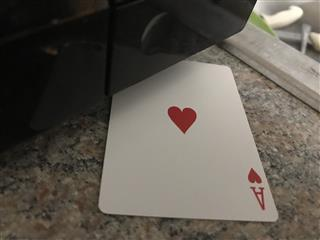AceOfHearts: (97, 59, 279, 221)
